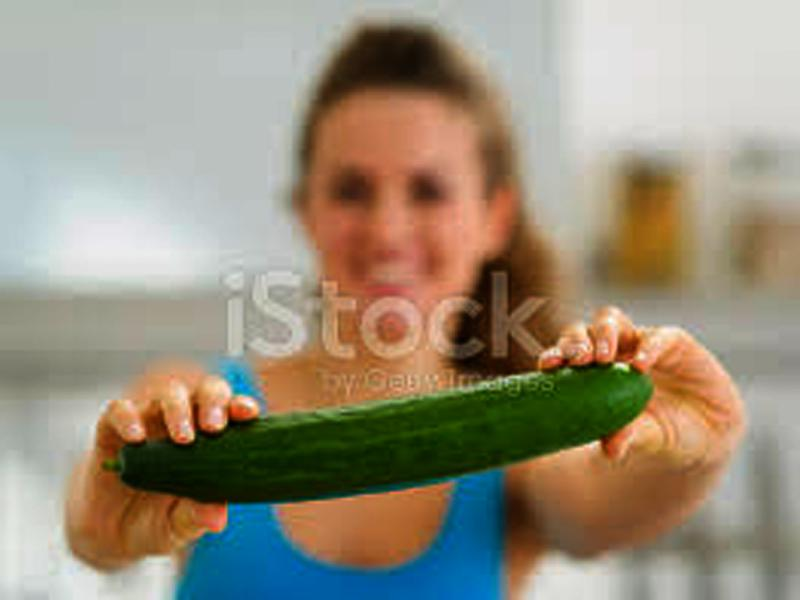Cucumber: (103, 369, 654, 503)
